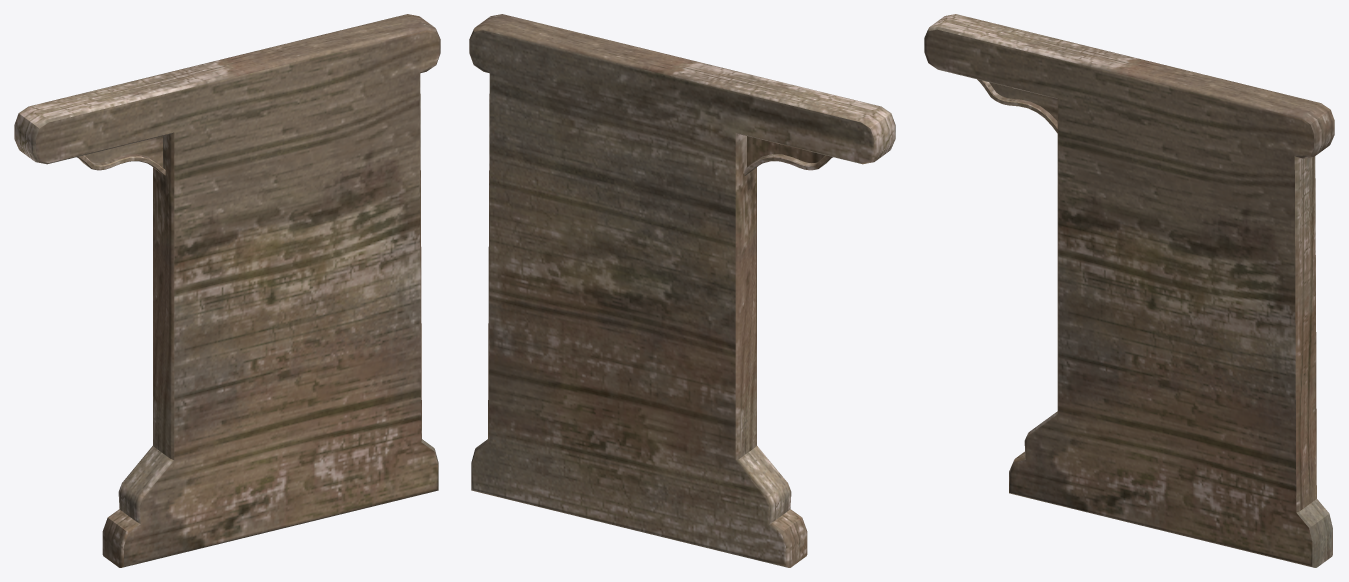
File: SM_Counter_Separator.fbx
3 views of the same model, side by side, from view 1: azimuth 30°, elevation 25°; view 2: azimuth 150°, elevation 25°; view 3: azimuth 330°, elevation 25° (orthographic). The views are drawn at different scales.
Visible parts, largest first — view 1: SM_Counter_Separator_LOD0; view 2: SM_Counter_Separator_LOD0; view 3: SM_Counter_Separator_LOD0.
Part boxes in pixels (bbox=[...]): SM_Counter_Separator_LOD0: bbox=[14, 14, 440, 567]; SM_Counter_Separator_LOD0: bbox=[469, 14, 895, 567]; SM_Counter_Separator_LOD0: bbox=[924, 14, 1334, 567].
Bounding box in the file's own units: 89.49 × 7.83 × 97.77.
Materials: 1 (1 with a texture image).
